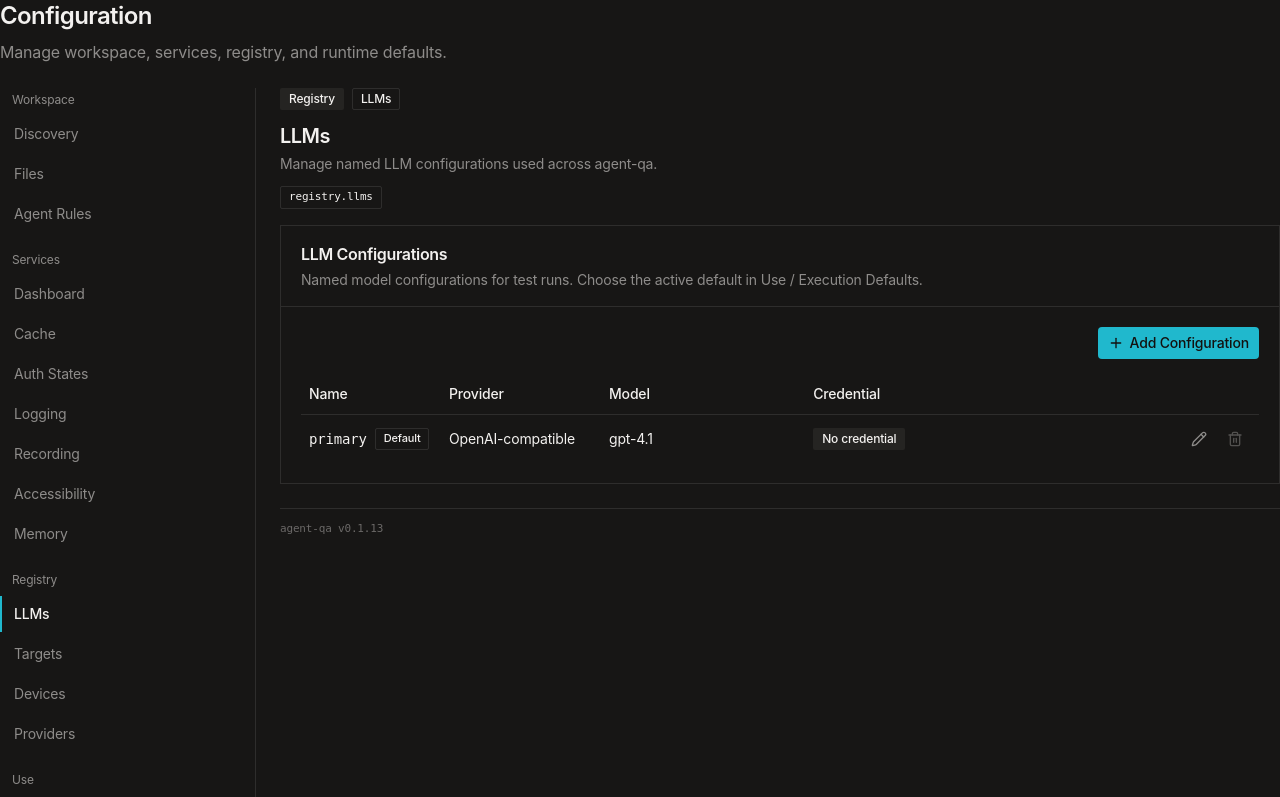
it: ConfigPage schema-driven shell › exposes effective resolution in the LLM configuration modal
This screenshot has width=1280, height=797.
Click the button titled "Edit configuration".
click(1199, 439)  # box [1183,423,1215,455]
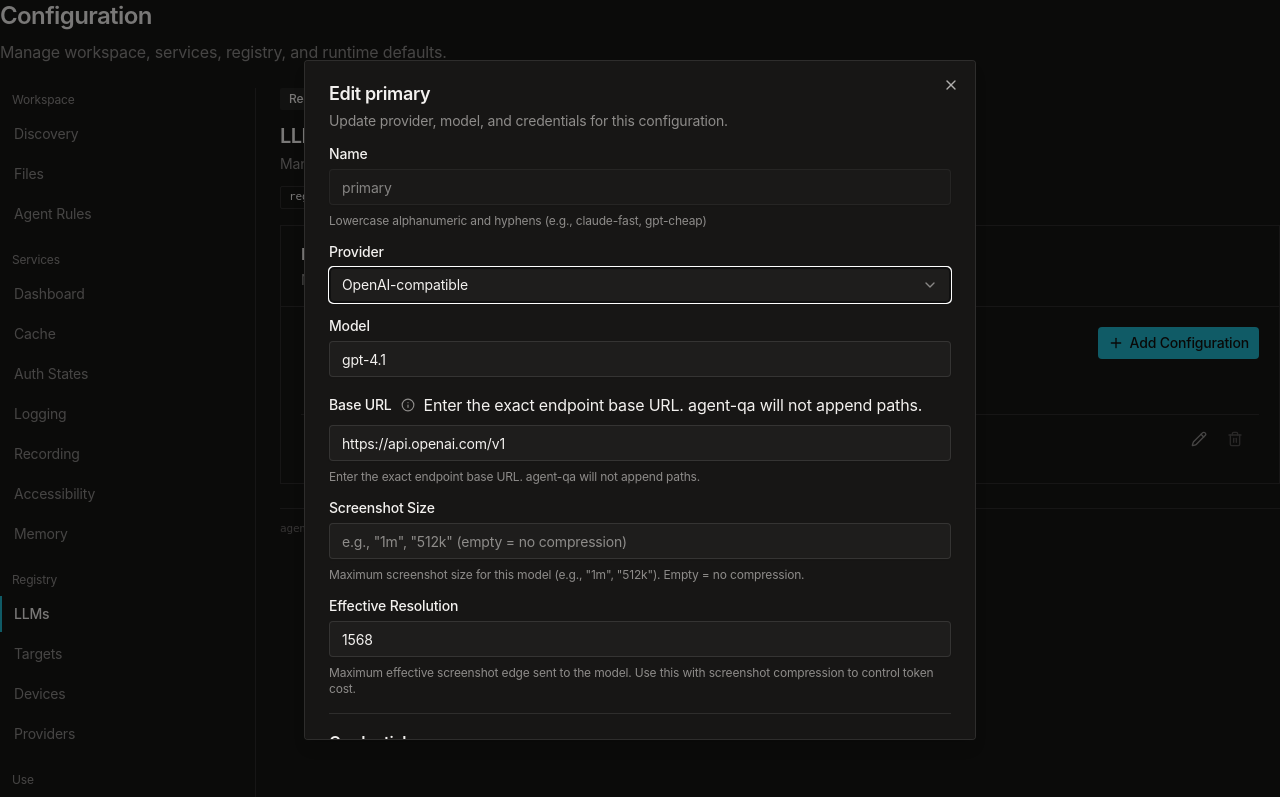
Expected: the text "Effective Resolution" is shown, [329,597,458,614]
Expected: the number field with id "config-effective-resolution" holds "1568", [329,621,951,657]
